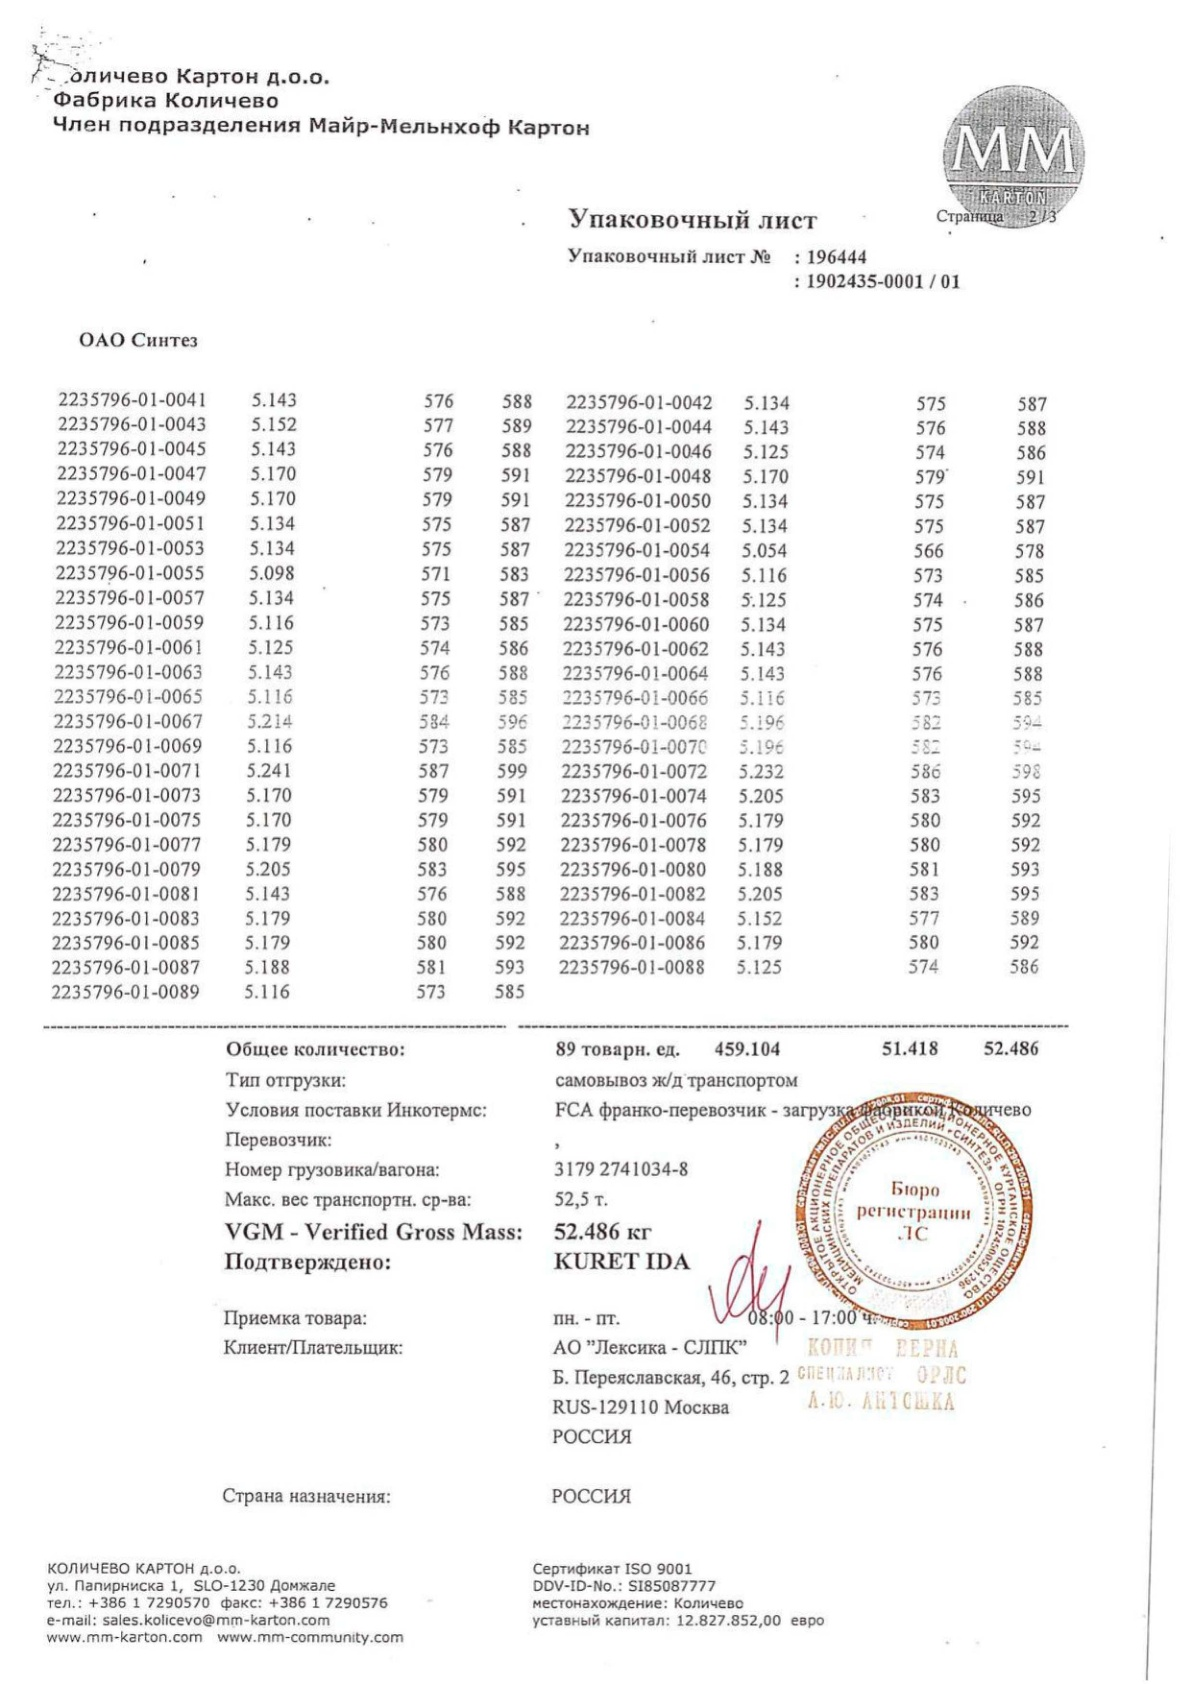nolines: (49, 389, 1050, 1002), (217, 1036, 1046, 1514)
